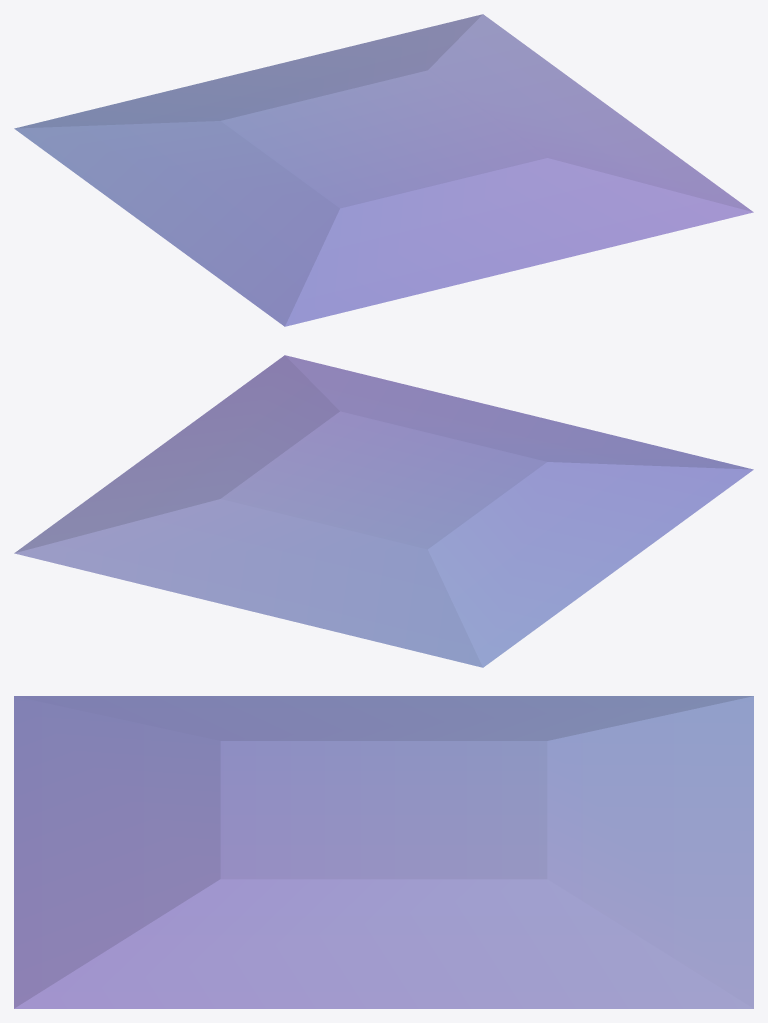
The picture shows the model from 3 angles, top to bottom: view 1: azimuth 30°, elevation 25°; view 2: azimuth 150°, elevation 25°; view 3: azimuth 270°, elevation 25°; orthographic projection. The views are drawn at different scales.
Parts seen in each view (by area): view 1: Plane; view 2: Plane; view 3: Plane.
Boxes of the visible parts, bbox=[...] form: Plane: bbox=[14, 14, 753, 326]; Plane: bbox=[14, 355, 753, 667]; Plane: bbox=[14, 696, 753, 1008].
Size of the model in its own units: 200 by 12.65 by 200.
